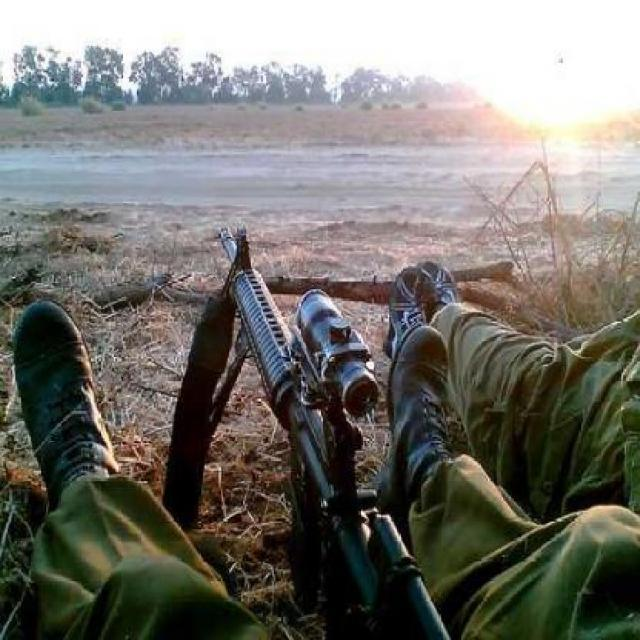weapon: (220, 230, 458, 640)
